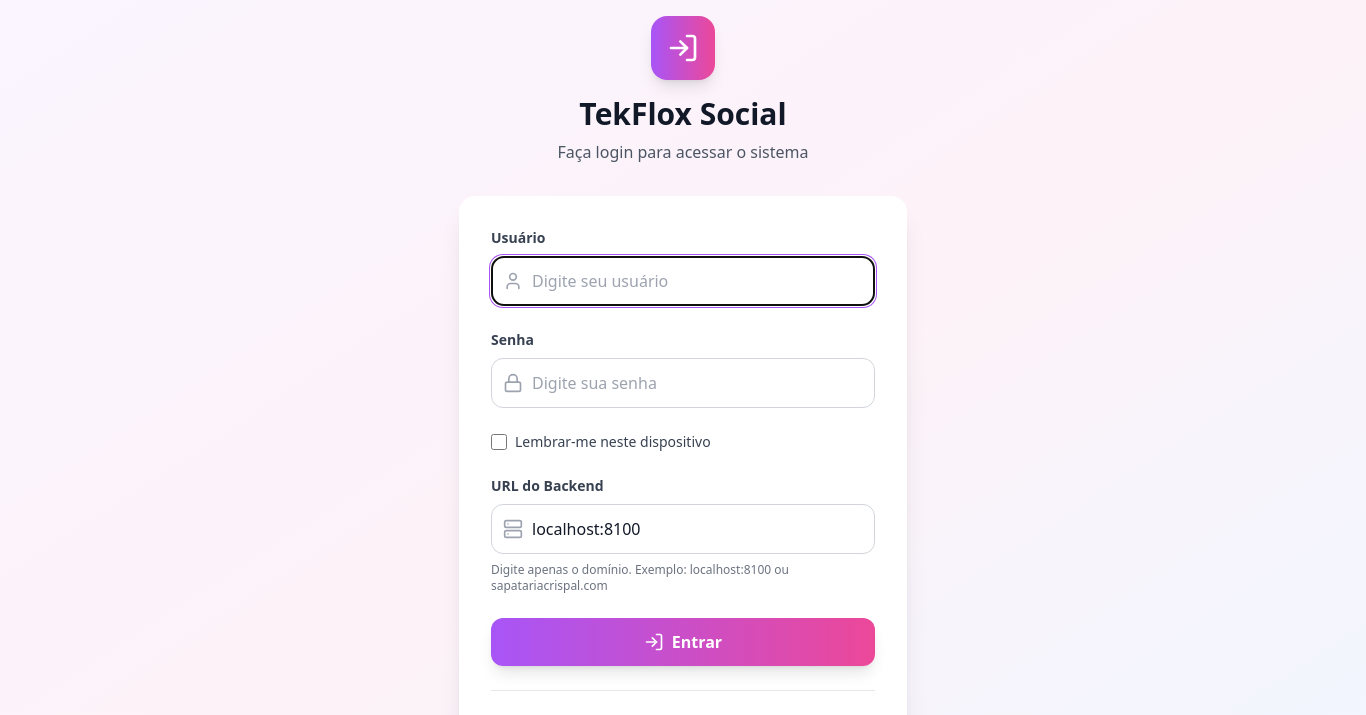
Test case: Login › deve validar campo senha vazio
Type "admin" into the field labelled "Usuário" at (683,281), box left=491, top=256, right=875, bottom=306
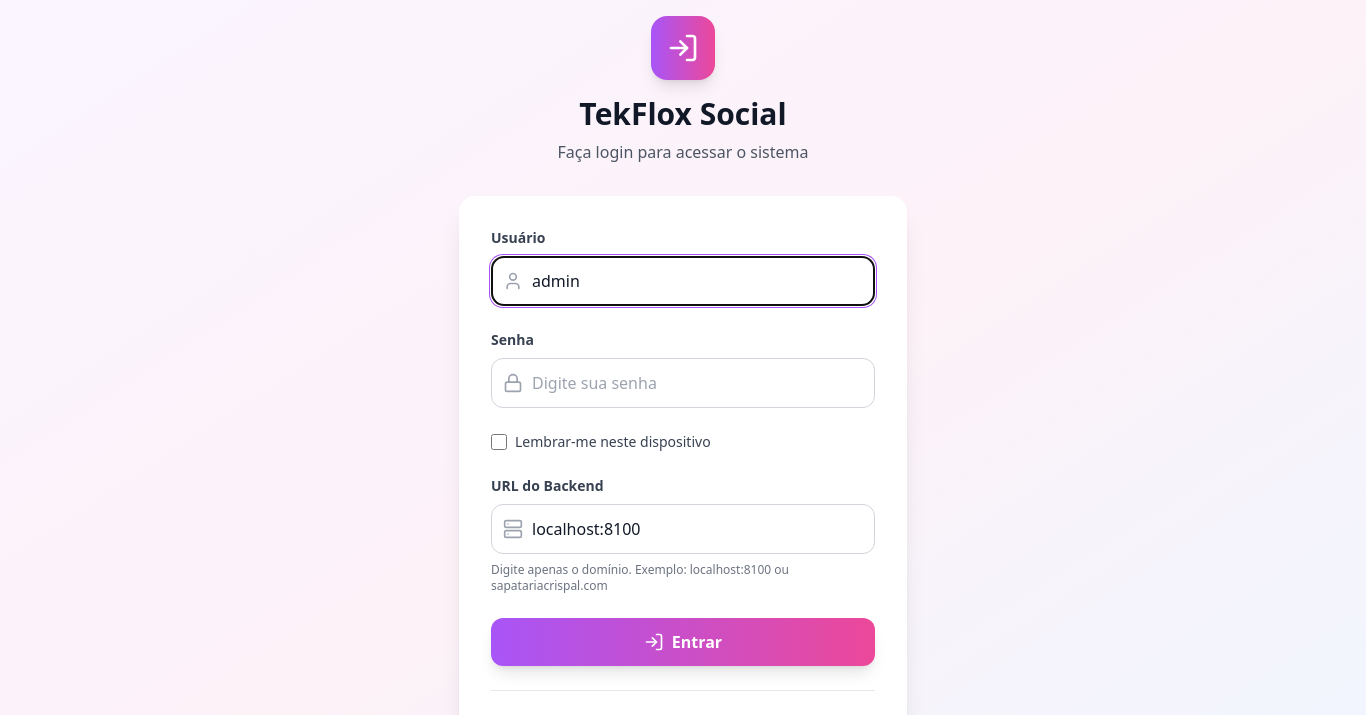
Click the button "Entrar" at (683,642), box left=491, top=618, right=875, bottom=666
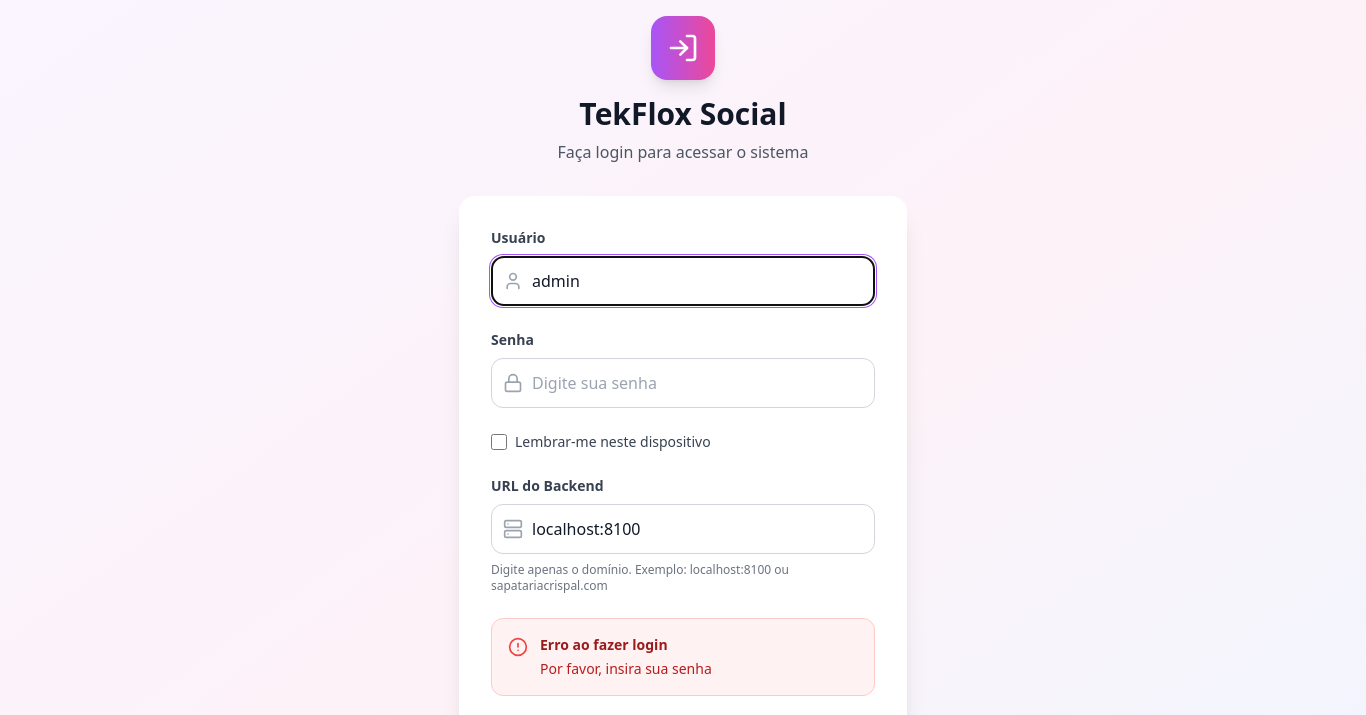
Check: the text "Por favor, insira sua senha" is shown, box left=540, top=659, right=712, bottom=678
